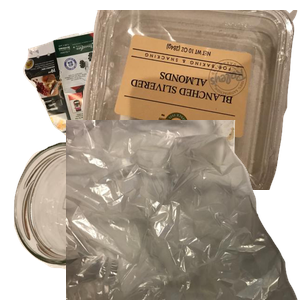glass: (11, 139, 179, 300)
paper: (20, 10, 231, 190)
plastic: (83, 10, 300, 190)
trash: (66, 120, 300, 300)
